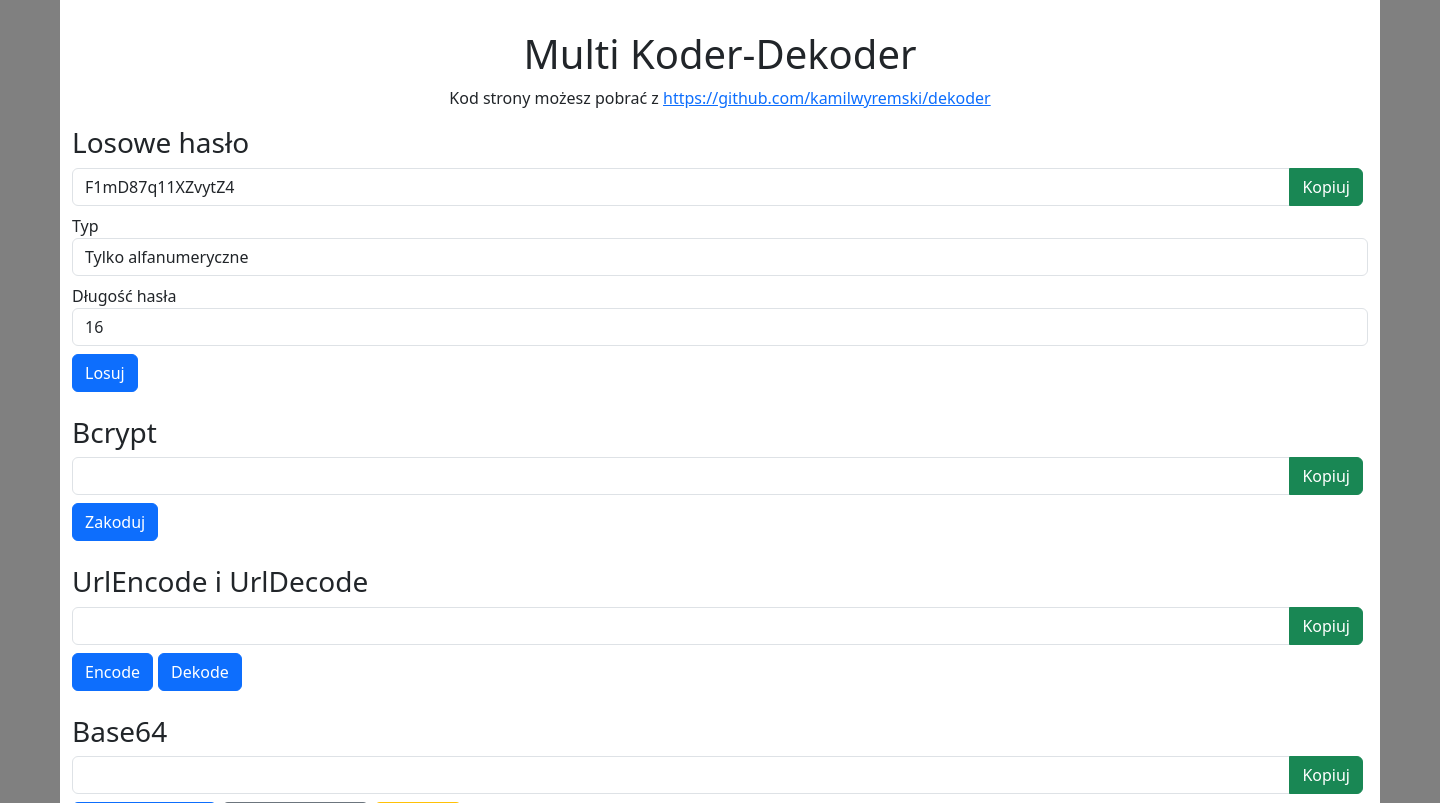
it: App Component Tests › sprawdź URLDECODE
Type "http://localhost:3000/%20ze%20spacj%C4%85" into the 3rd field named "input_urldecode".
click(681, 626); type("http://localhost:3000/%20ze%20spacj%C4%85")  # box [72,607,1290,645]
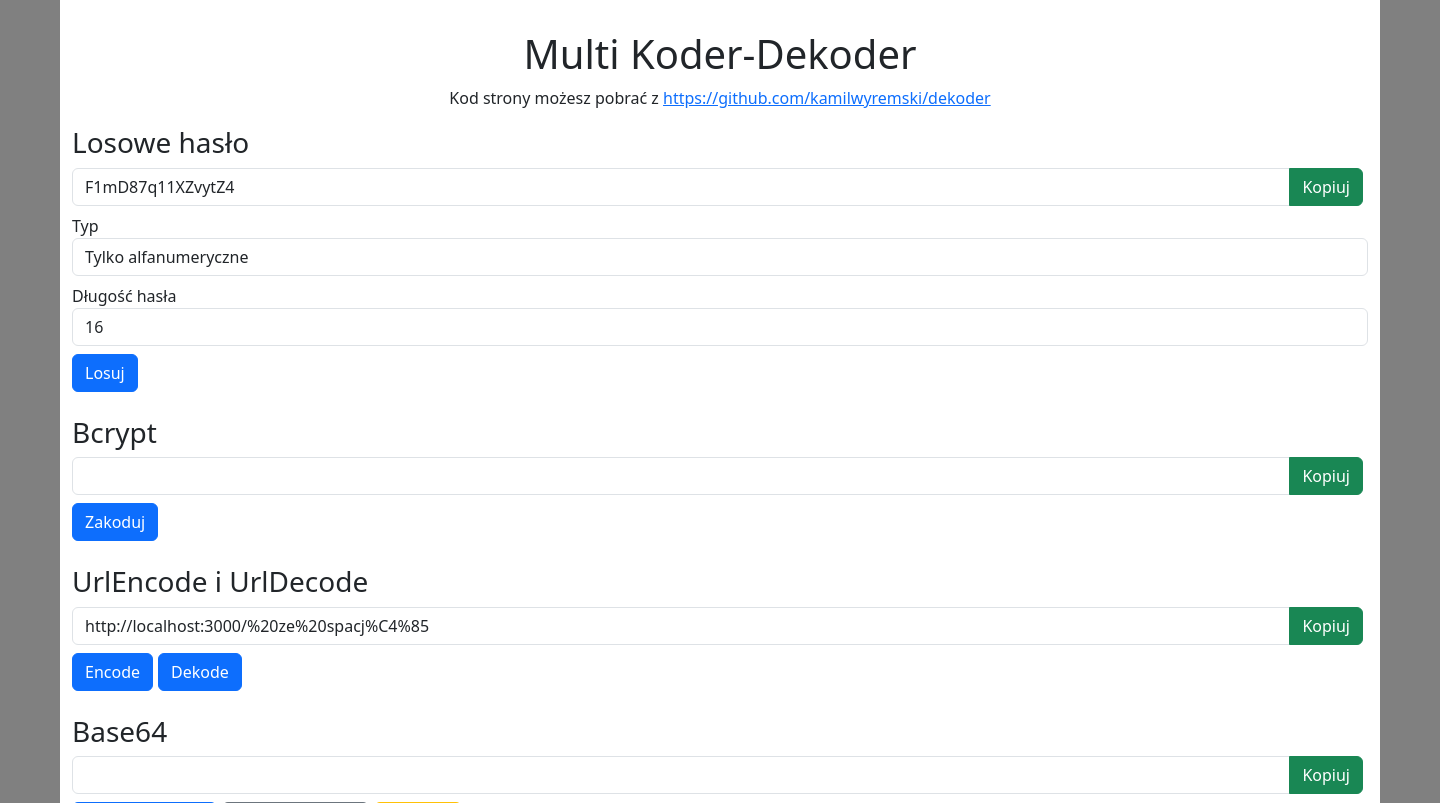
Click the button with id "button_urldecode".
click(200, 672)  # box [158,653,242,691]
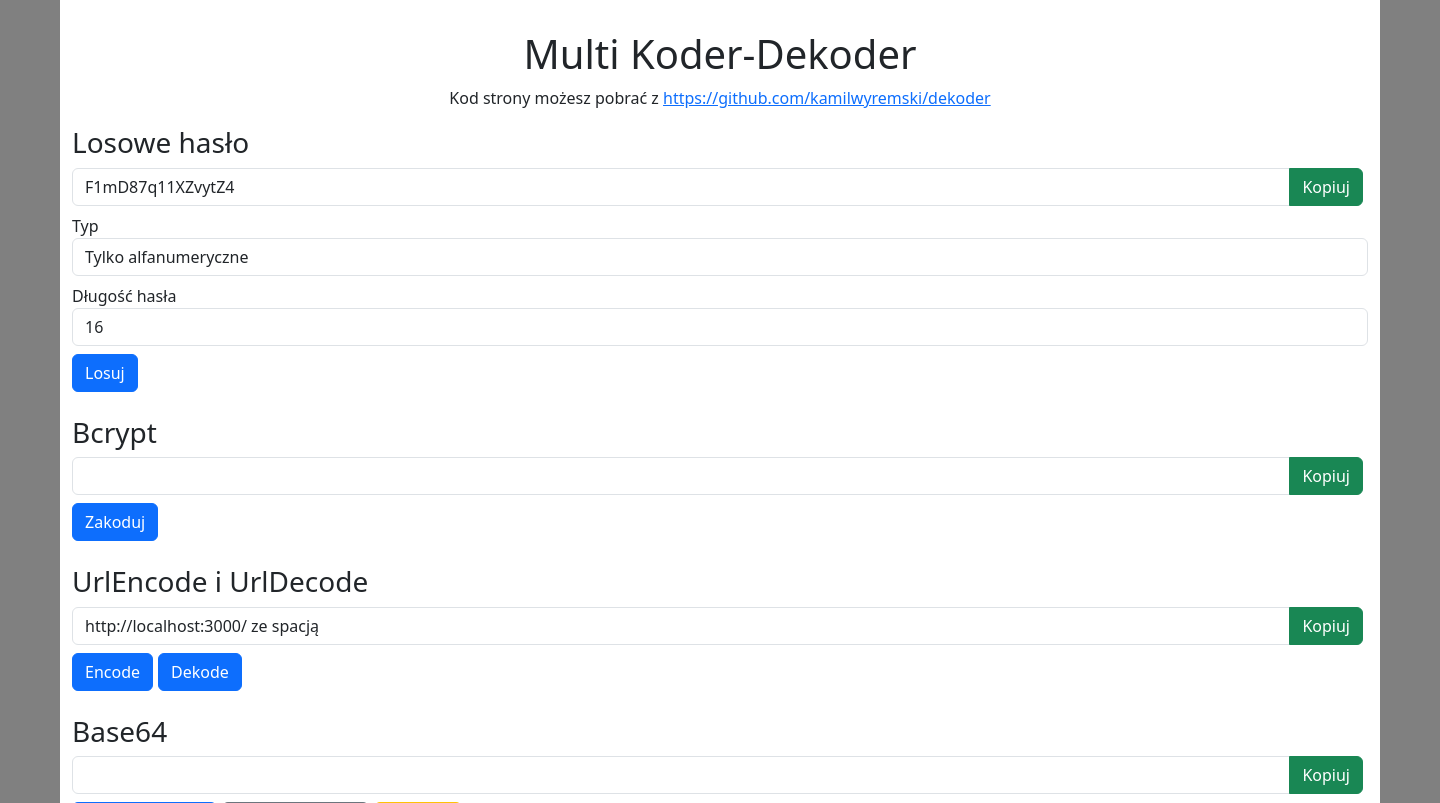
Now the 3rd field named "input_urldecode" holds "http://localhost:3000/ ze spacją", box [72,607,1290,645]
